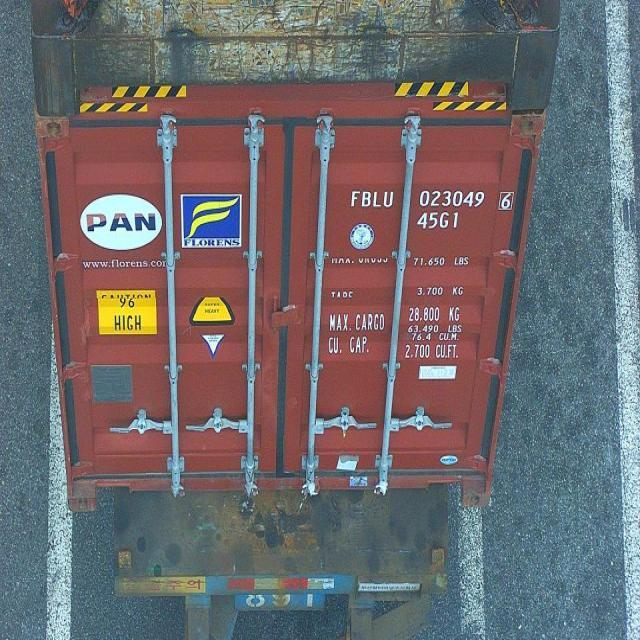ISO: (417, 213, 460, 229)
container_number: (347, 184, 515, 210)
